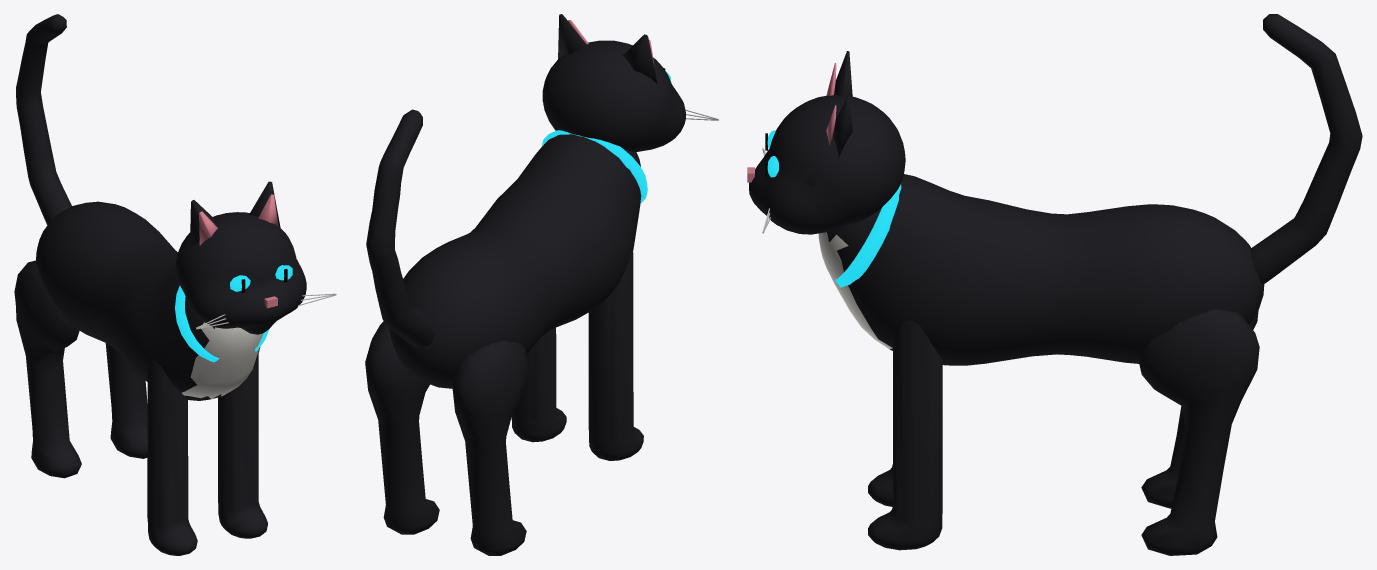
File: Pet_Cat_Walk.gltf
The picture shows the model from 3 angles, left to right: view 1: azimuth 30°, elevation 25°; view 2: azimuth 150°, elevation 25°; view 3: azimuth 270°, elevation 25°; orthographic projection. The views are drawn at different scales.
Parts seen in each view (by area): view 1: Pet_Cat_Walk, CatWalk_Head, CatWalk_Leg_BR, CatWalk_Leg_FR, CatWalk_Leg_FL, CatWalk_Tail, CatWalk_Leg_BL; view 2: Pet_Cat_Walk, CatWalk_Head, CatWalk_Leg_BR, CatWalk_Leg_BL, CatWalk_Leg_FR, CatWalk_Tail, CatWalk_Leg_FL; view 3: Pet_Cat_Walk, CatWalk_Head, CatWalk_Leg_BL, CatWalk_Leg_FL, CatWalk_Tail, CatWalk_Leg_BR, CatWalk_Leg_FR.
Boxes of the visible parts, x1,y1,x2,y2 form: Pet_Cat_Walk: (35,201,268,400); CatWalk_Head: (176,181,336,334); CatWalk_Leg_BR: (14,260,81,478); CatWalk_Leg_FR: (147,360,197,555); CatWalk_Leg_FL: (218,354,267,538); CatWalk_Tail: (16,14,71,224); CatWalk_Leg_BL: (105,343,147,458); Pet_Cat_Walk: (389,130,647,388); CatWalk_Head: (542,14,718,151); CatWalk_Leg_BR: (452,340,528,555); CatWalk_Leg_BL: (365,321,439,534); CatWalk_Leg_FR: (588,251,643,460); CatWalk_Tail: (366,109,435,348); CatWalk_Leg_FL: (511,327,566,442); Pet_Cat_Walk: (818,174,1264,365); CatWalk_Head: (747,51,905,234); CatWalk_Leg_BL: (1137,309,1259,555); CatWalk_Leg_FL: (868,320,942,550); CatWalk_Tail: (1250,14,1362,284); CatWalk_Leg_BR: (1141,310,1258,508); CatWalk_Leg_FR: (868,351,893,506).
Bounding box in the file's own units: 0.1594 × 0.4543 × 0.4938.
